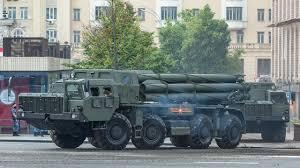person: (9, 100, 21, 138)
rszo: (10, 64, 263, 154), (241, 76, 290, 148)
